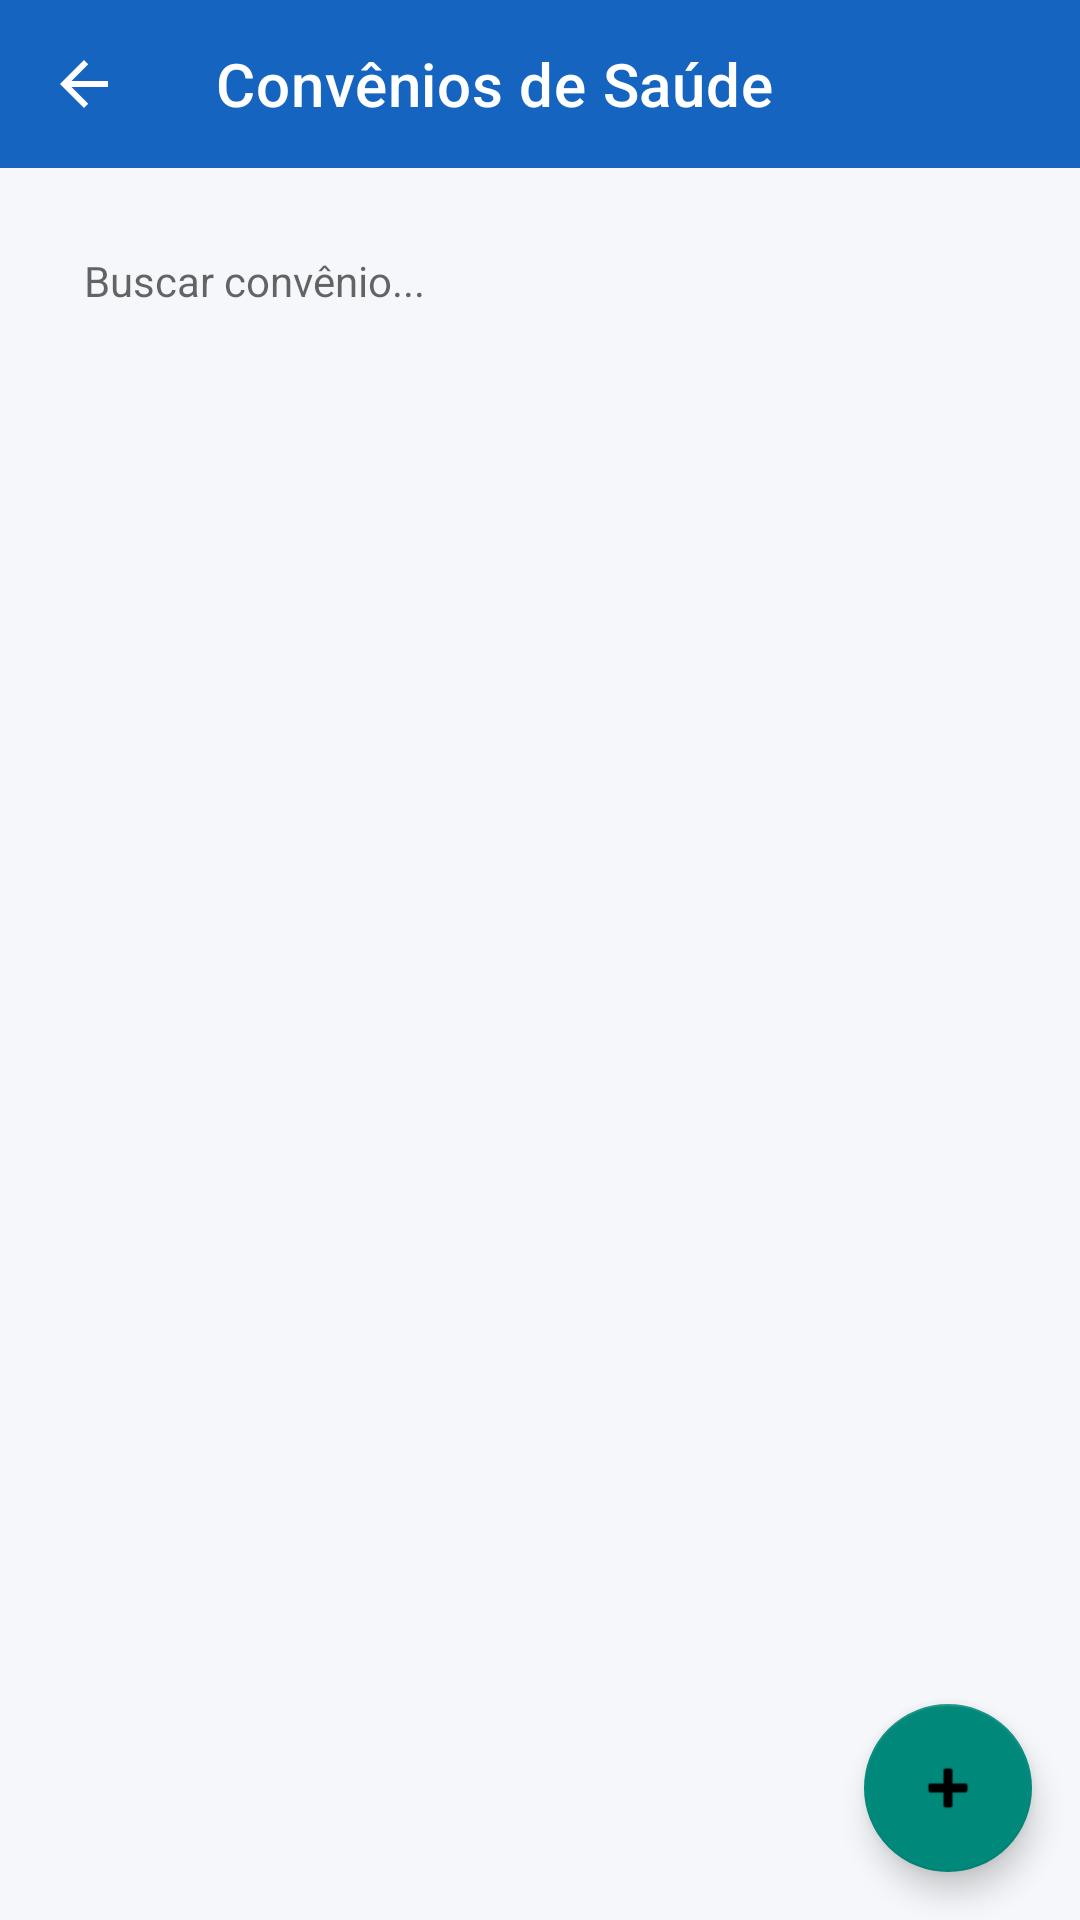

Screen size 1080 × 1920. Icon name, then its center in pixels as (x,y):
Adicionar: (948,1788)
